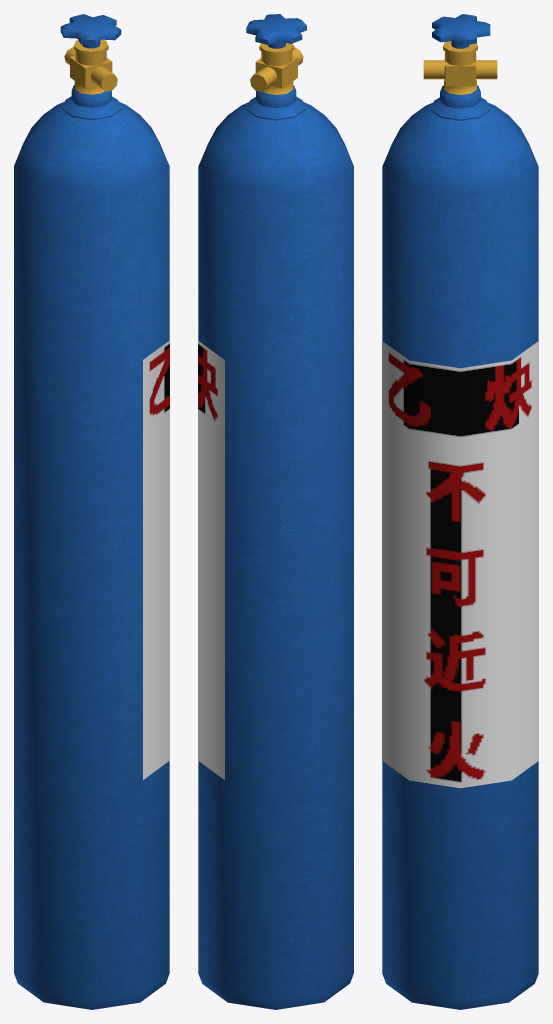
Rendered from SM_乙炔钢瓶.fbx.
The picture shows the model from 3 angles, left to right: view 1: azimuth 30°, elevation 25°; view 2: azimuth 150°, elevation 25°; view 3: azimuth 270°, elevation 25°; orthographic projection.
Visible parts, largest first — view 1: SM_乙炔钢瓶; view 2: SM_乙炔钢瓶; view 3: SM_乙炔钢瓶.
Part boxes in pixels (bbox=[...]): SM_乙炔钢瓶: bbox=[14, 14, 169, 1009]; SM_乙炔钢瓶: bbox=[198, 14, 353, 1009]; SM_乙炔钢瓶: bbox=[382, 14, 538, 1009].
Bounding box in the file's own units: 0.2229 × 1.54 × 0.2284.
